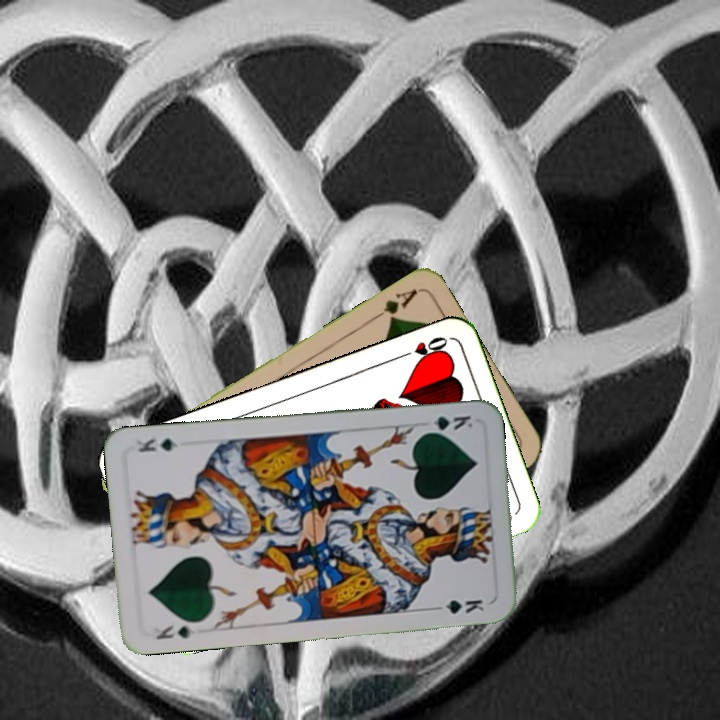GA: (367, 284, 421, 325)
GK: (418, 411, 475, 436), (152, 621, 197, 642)
HO: (394, 332, 451, 364)
